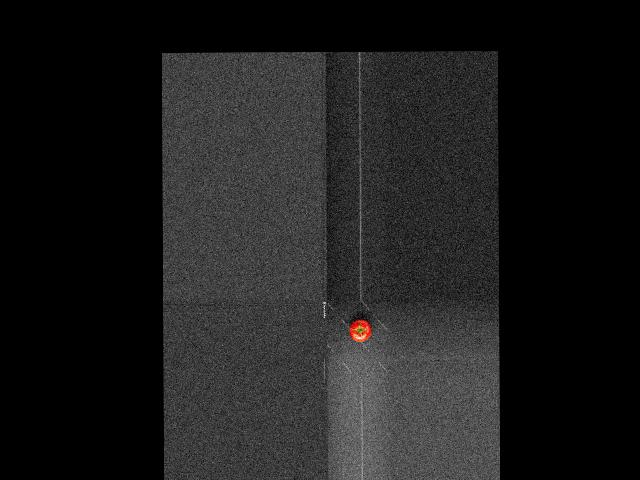tomato: (349, 319, 371, 342)
